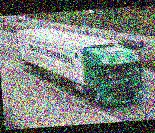truck: (16, 22, 147, 113)
